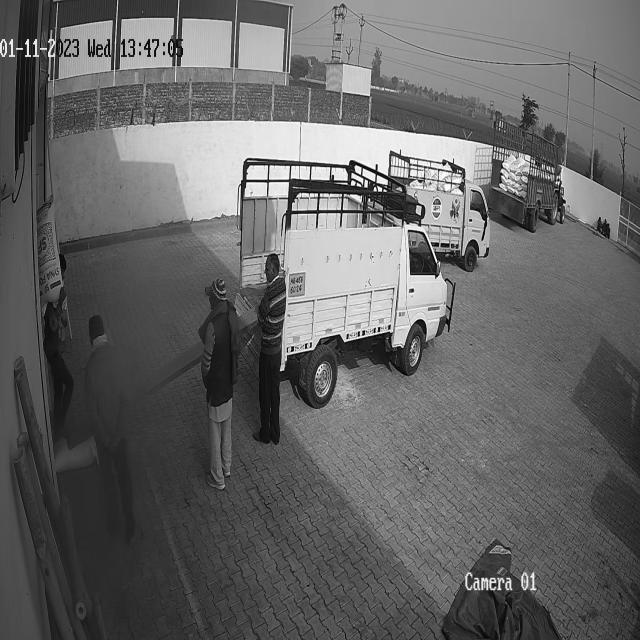sack: (37, 196, 63, 314), (56, 436, 97, 472)
